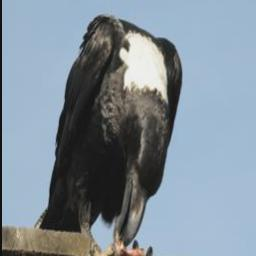Crow: (33, 6, 184, 256)
